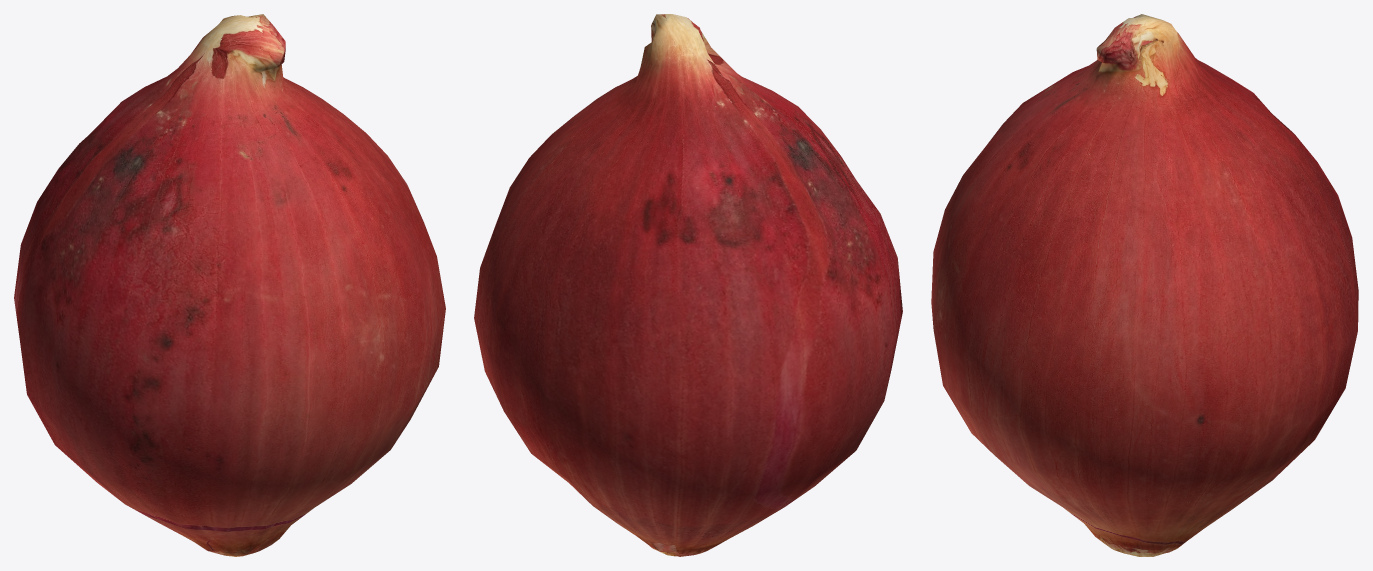
3 views of the same model, side by side, from view 1: azimuth 30°, elevation 25°; view 2: azimuth 150°, elevation 25°; view 3: azimuth 270°, elevation 25° (orthographic).
Visible parts, largest first — view 1: Red Onion; view 2: Red Onion; view 3: Red Onion.
Part boxes in pixels (bbox=[...]): Red Onion: bbox=[14, 14, 445, 556]; Red Onion: bbox=[474, 14, 902, 556]; Red Onion: bbox=[931, 14, 1358, 556].
Size of the model in its own units: 0.0546 by 0.0751 by 0.0541.
Materials: 1 (1 with a texture image).
